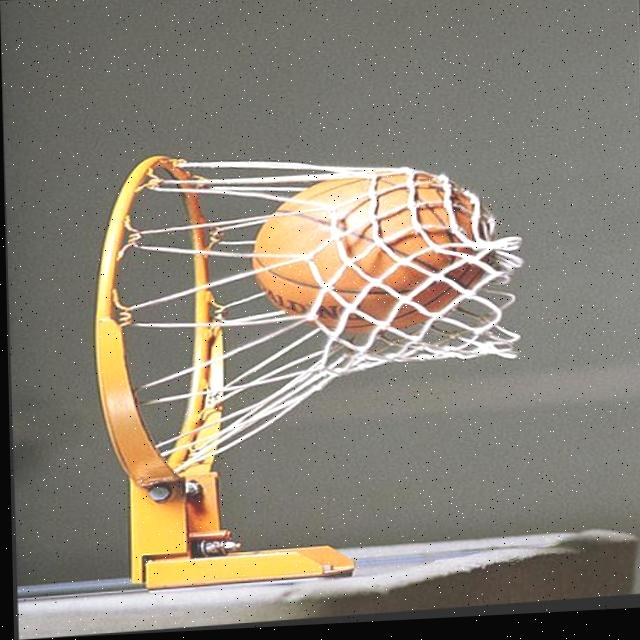Goal: (251, 168, 494, 339)
